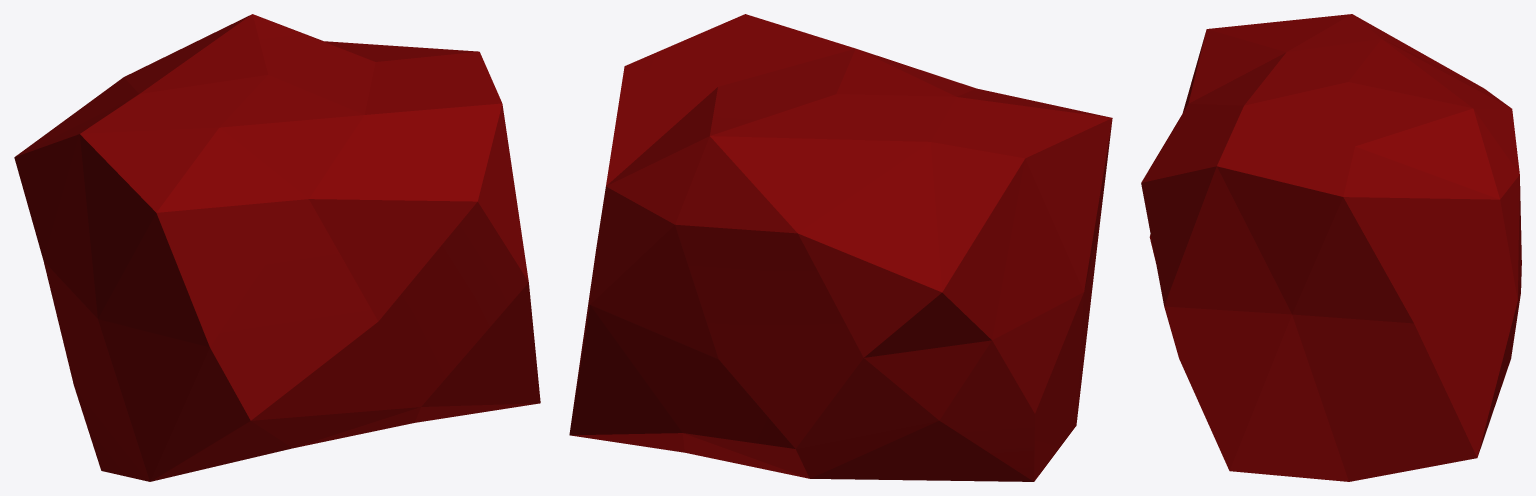
Rendered from Resources__items__meat__WhaleMeat.glb.
The picture shows the model from 3 angles, left to right: view 1: azimuth 30°, elevation 25°; view 2: azimuth 150°, elevation 25°; view 3: azimuth 270°, elevation 25°; orthographic projection. The views are drawn at different scales.
Visible parts, largest first — view 1: MeatChunk; view 2: MeatChunk; view 3: MeatChunk.
Part boxes in pixels (<box>): MeatChunk: <box>14,14,540,481</box>; MeatChunk: <box>569,14,1112,481</box>; MeatChunk: <box>1141,14,1521,481</box>.
Bounding box in the file's own units: 0.8898 × 0.7163 × 0.7853.
Materials: 1 (1 with a texture image).
